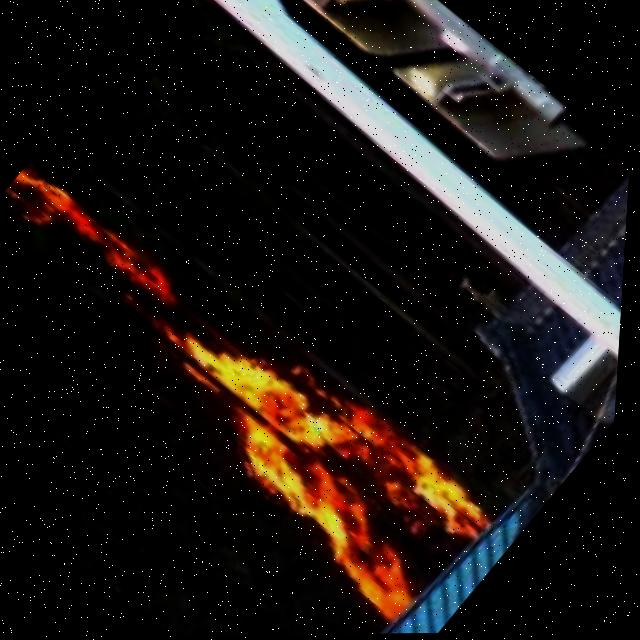Fire: (0, 137, 516, 636)
